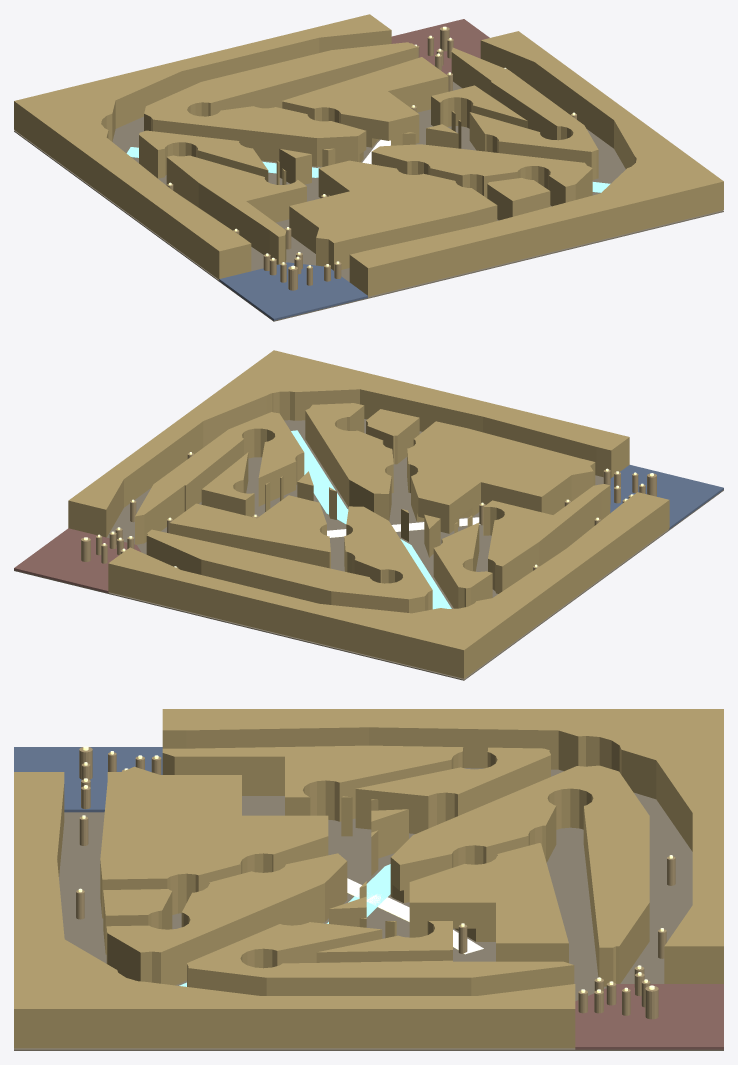
The model's file is piltover_map_blockout.glb.
The picture shows the model from 3 angles, top to bottom: view 1: azimuth 30°, elevation 25°; view 2: azimuth 150°, elevation 25°; view 3: azimuth 270°, elevation 25°; orthographic projection. The views are drawn at different scales.
Parts seen in each view (by area): view 1: WallSlab, Floor, base_plate_blue, base_plate_red; view 2: WallSlab, Floor, base_plate_red, base_plate_blue, river_glow; view 3: WallSlab, Floor, base_plate_red, base_plate_blue, tunnel_glow, river_glow.
Boxes of the visible parts, x1=… form: WallSlab: x1=14, y1=14, x2=723, y2=296; Floor: x1=14, y1=81, x2=723, y2=321; base_plate_blue: x1=219, y1=262, x2=367, y2=320; base_plate_red: x1=391, y1=19, x2=489, y2=74; WallSlab: x1=68, y1=350, x2=669, y2=678; Floor: x1=14, y1=419, x2=723, y2=680; base_plate_red: x1=14, y1=528, x2=140, y2=592; base_plate_blue: x1=610, y1=465, x2=723, y2=529; river_glow: x1=291, y1=430, x2=451, y2=609; WallSlab: x1=14, y1=709, x2=723, y2=1048; Floor: x1=14, y1=768, x2=723, y2=1050; base_plate_red: x1=575, y1=984, x2=723, y2=1049; base_plate_blue: x1=14, y1=747, x2=162, y2=812; tunnel_glow: x1=347, y1=878, x2=483, y2=954; river_glow: x1=179, y1=864, x2=390, y2=986.
Bounding box in the file's own units: 148 × 9.6 × 148.
